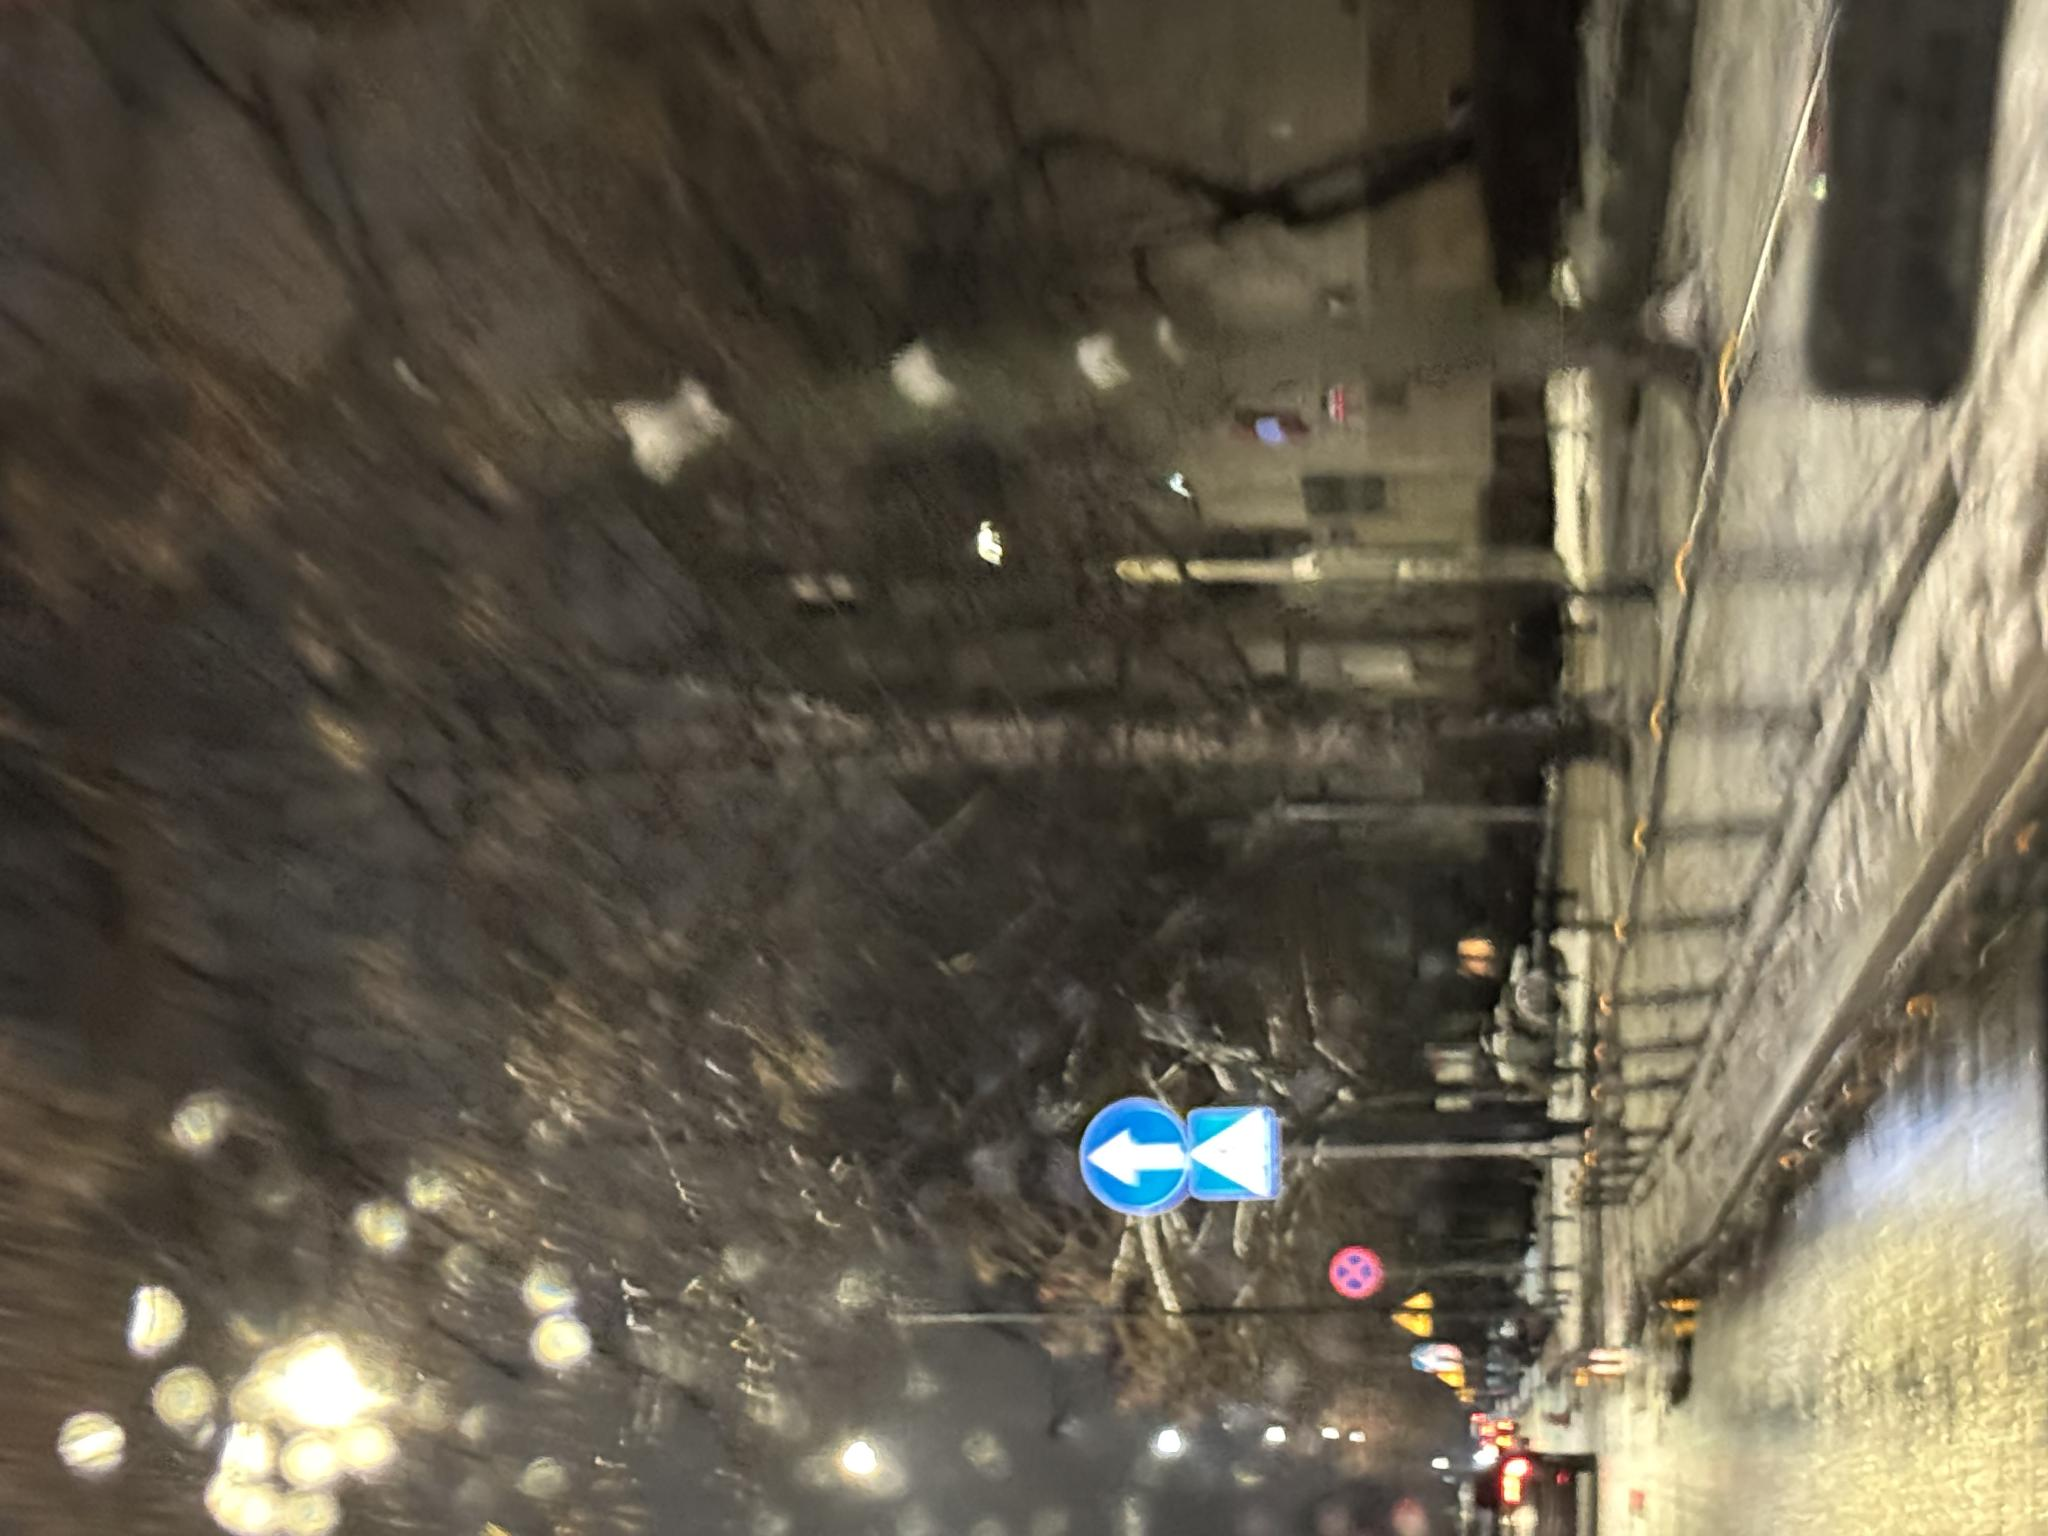information: (332, 1186, 432, 1281), (166, 1412, 192, 1439)
mandatory: (324, 1078, 434, 1187)
prohibitory: (235, 1326, 295, 1383)
warning: (200, 1391, 223, 1436), (227, 1402, 245, 1436)
